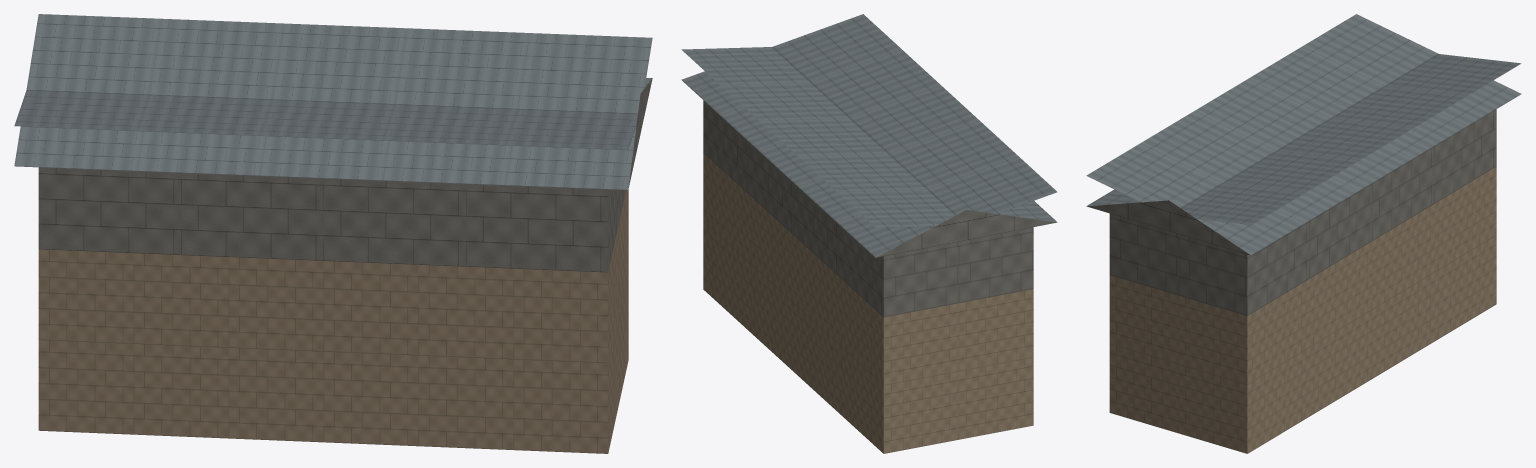
File: bld_c39_39_258.gltf
3 renders of one model, left to right at view 1: azimuth 30°, elevation 25°; view 2: azimuth 150°, elevation 25°; view 3: azimuth 270°, elevation 25°, orthographic. The views are drawn at different scales.
Parts seen in each view (by area): view 1: bld_c39_39_258; view 2: bld_c39_39_258; view 3: bld_c39_39_258.
Part boxes in pixels (box(x1,y1,x2,y2)): bld_c39_39_258: box(14, 14, 652, 453); bld_c39_39_258: box(681, 14, 1057, 453); bld_c39_39_258: box(1086, 14, 1521, 453).
Bounding box in the file's own units: 14.79 × 7.8 × 12.9.
4 materials, 4 textured.
